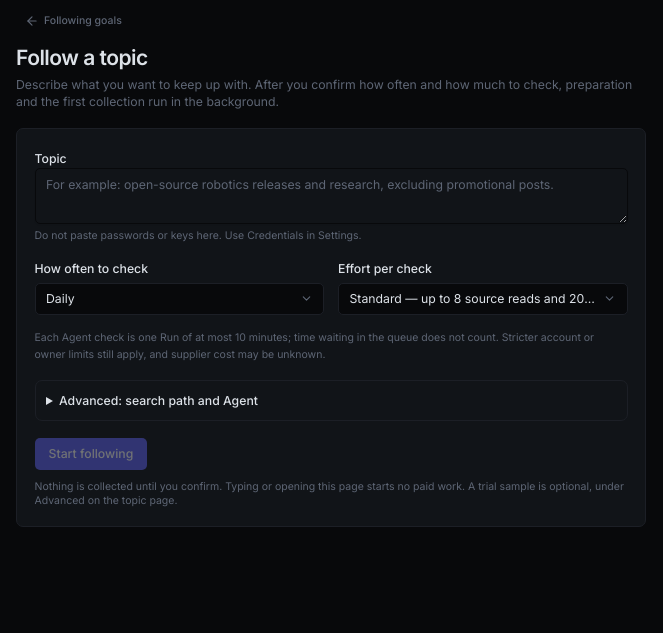
Test case: refuses a recognized key before any write and never stores the topic text
The image size is (663, 633).
Check: the heading "Follow a topic" is shown, box [16,45,148,70]
Replace the text in the text box labelled "Topic" with "api_key=FIXTURE_SECRET_ONLY_123456789" at (331, 196), box [34,168,628,224]
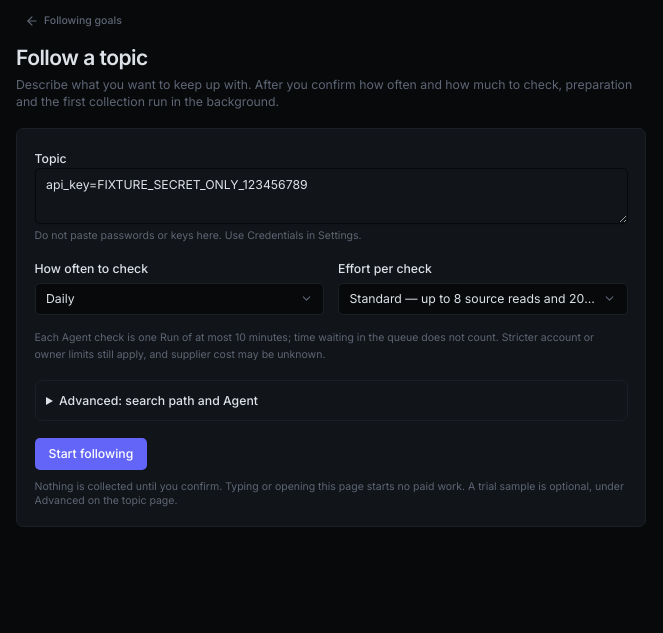
Click the button "Start following" at (91, 454), box [34,438,147,470]
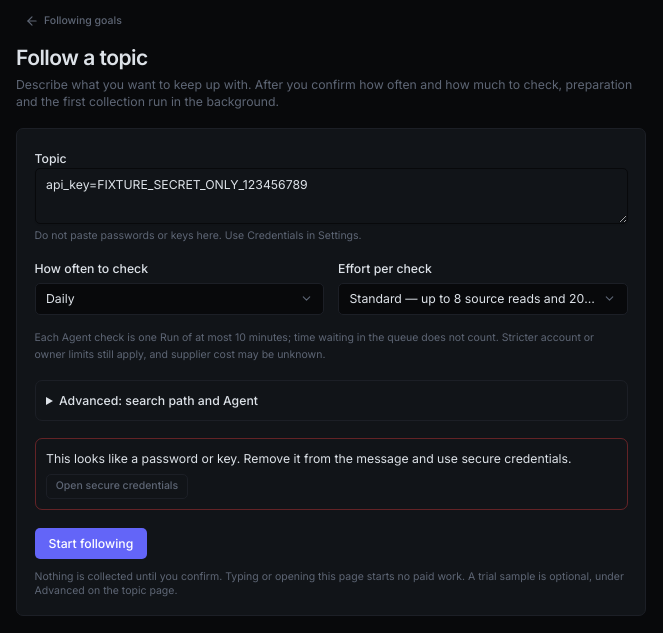
Check: the text "This looks like a password or key. Remove it from the message and use secure credentials." is shown, box [46,451,572,466]
